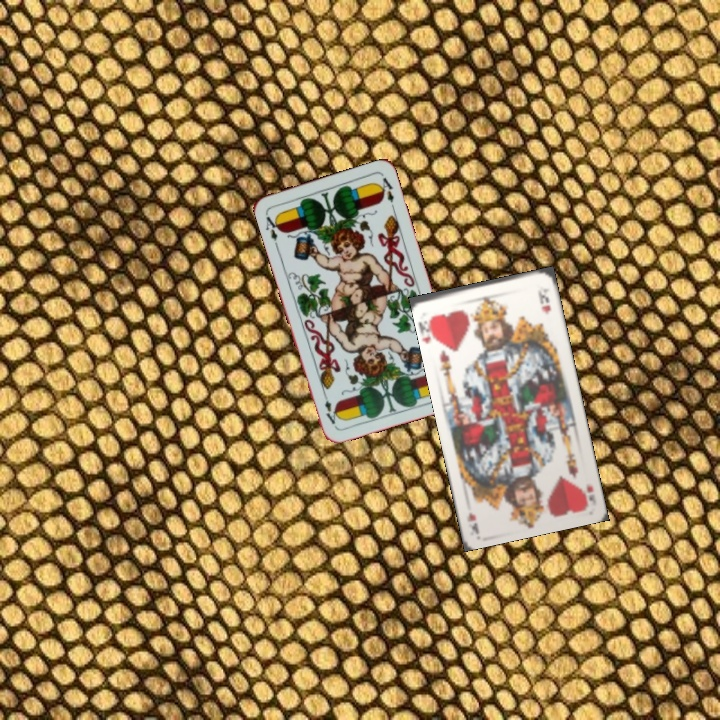EA: (262, 212, 284, 243)
HK: (417, 311, 442, 347), (582, 479, 599, 507)
